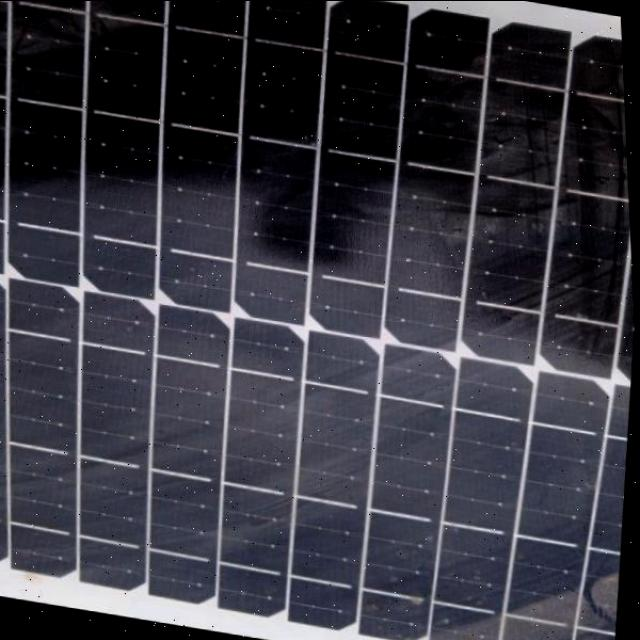Surface Contaminant: (271, 0, 638, 640)
